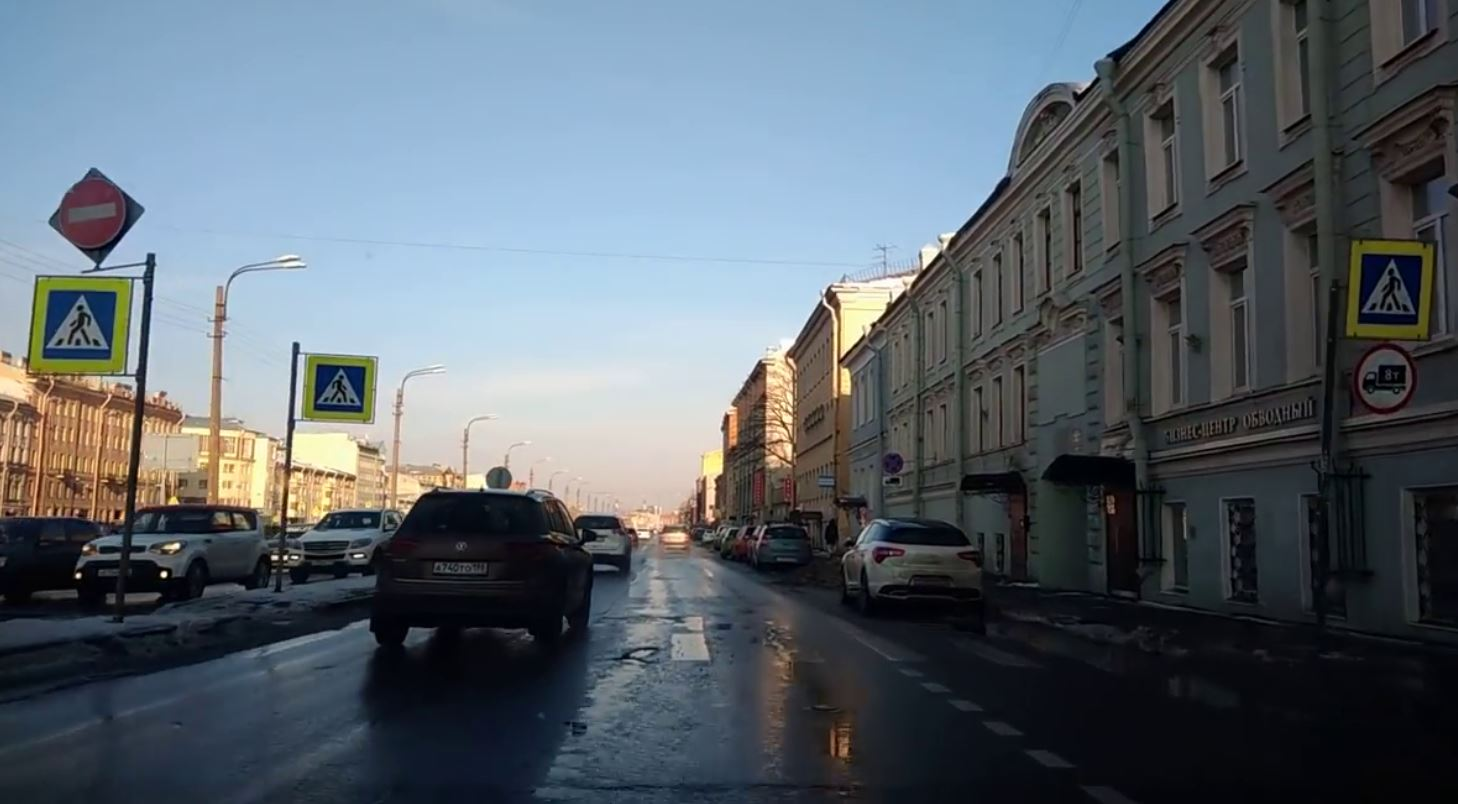Yaya Gecidi: (38, 292, 116, 354), (1363, 258, 1423, 327), (311, 354, 372, 412)
